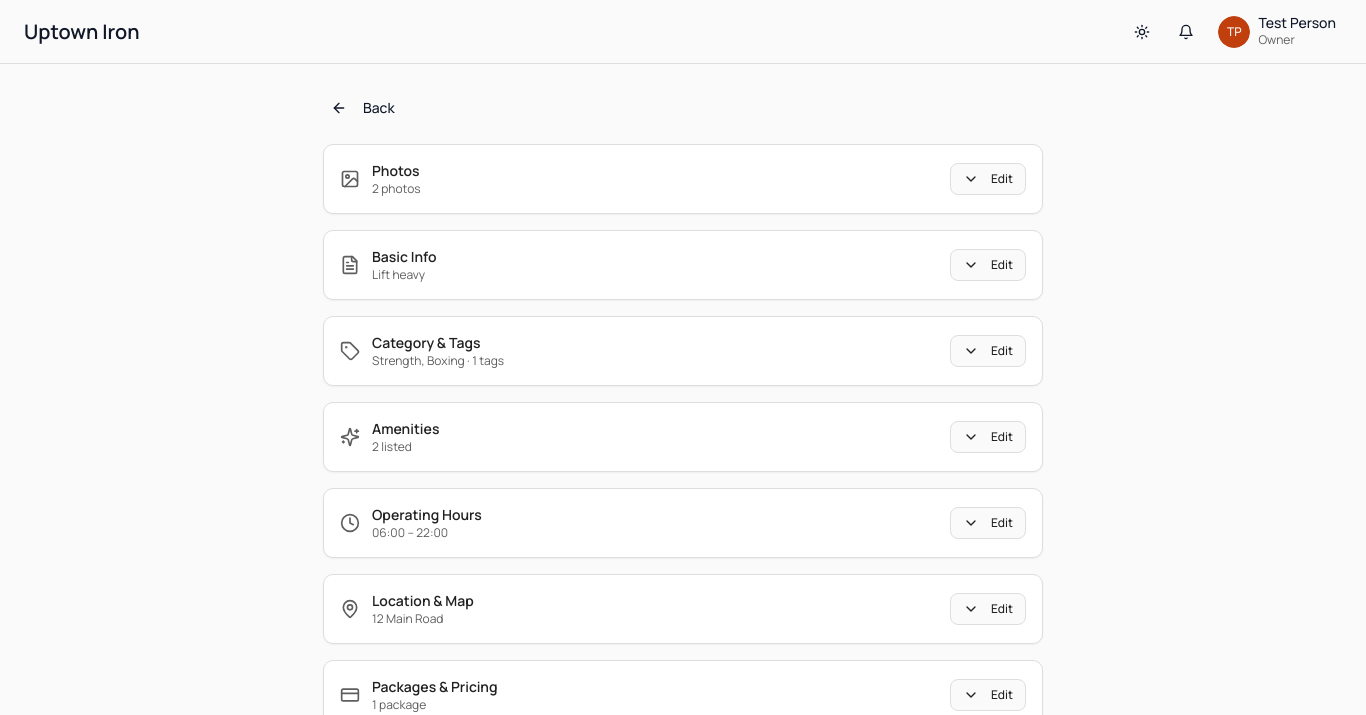
Listing editor: Amenities › shows the server message when the save fails
Click the button "Edit" in the row of "Amenities". click: (988, 437)
box: 950,421 -> 1026,453
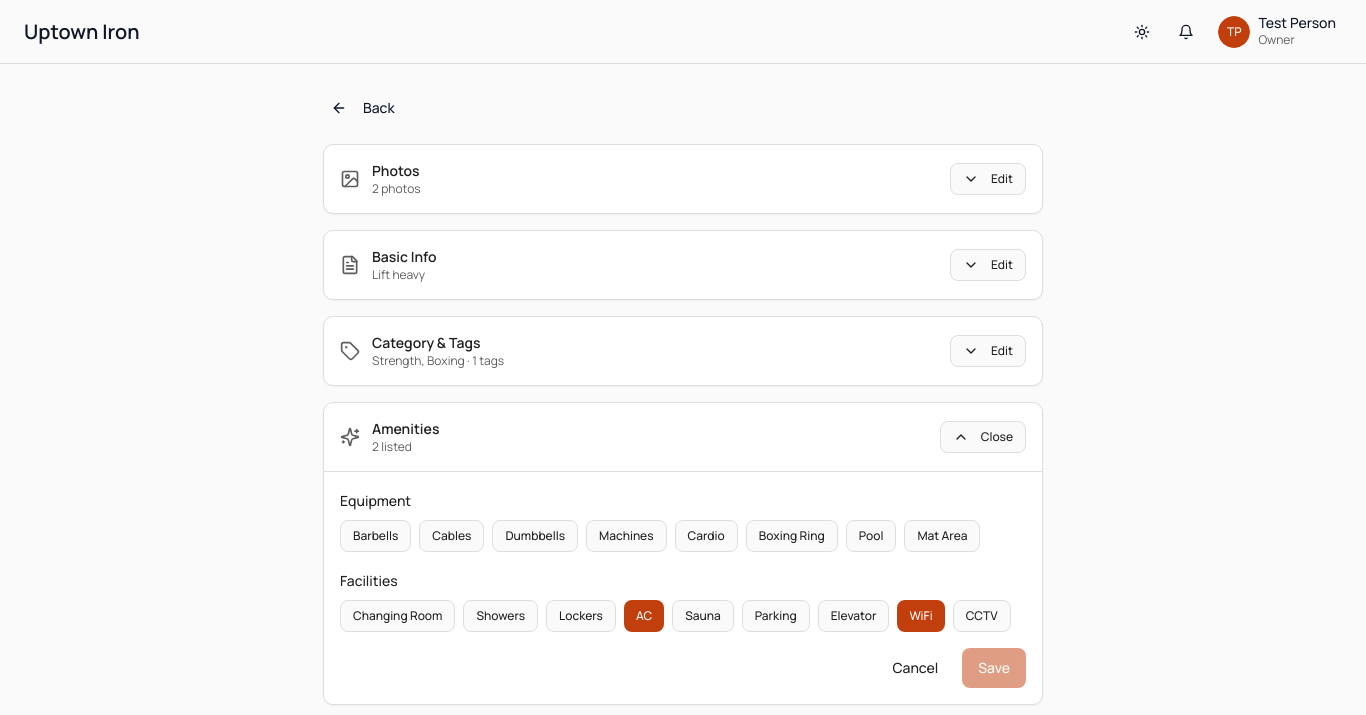
Click the button "Sauna". click: (703, 616)
box: 672,600 -> 734,632
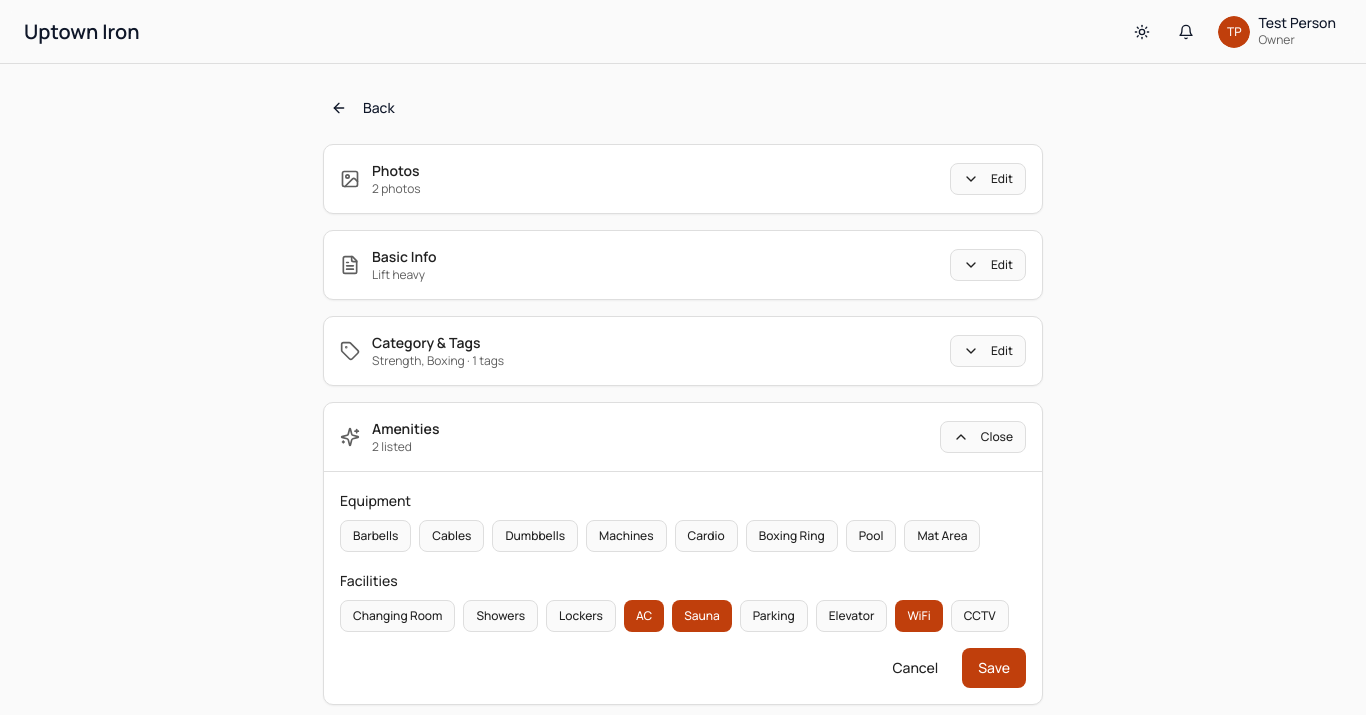
Click the button "Save". click: (994, 668)
box: 962,648 -> 1026,688
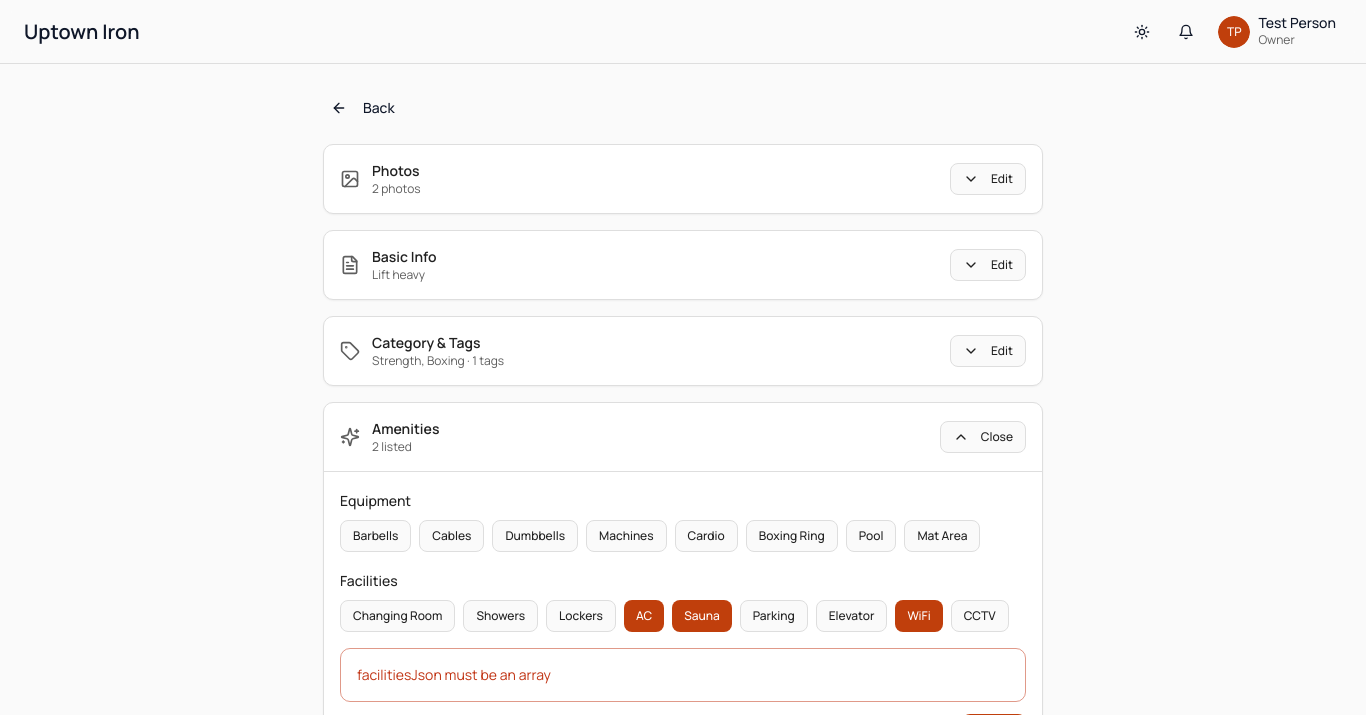
Now the message with test id "save-error" reads "facilitiesJson must be an array", box 357,665 -> 551,684
